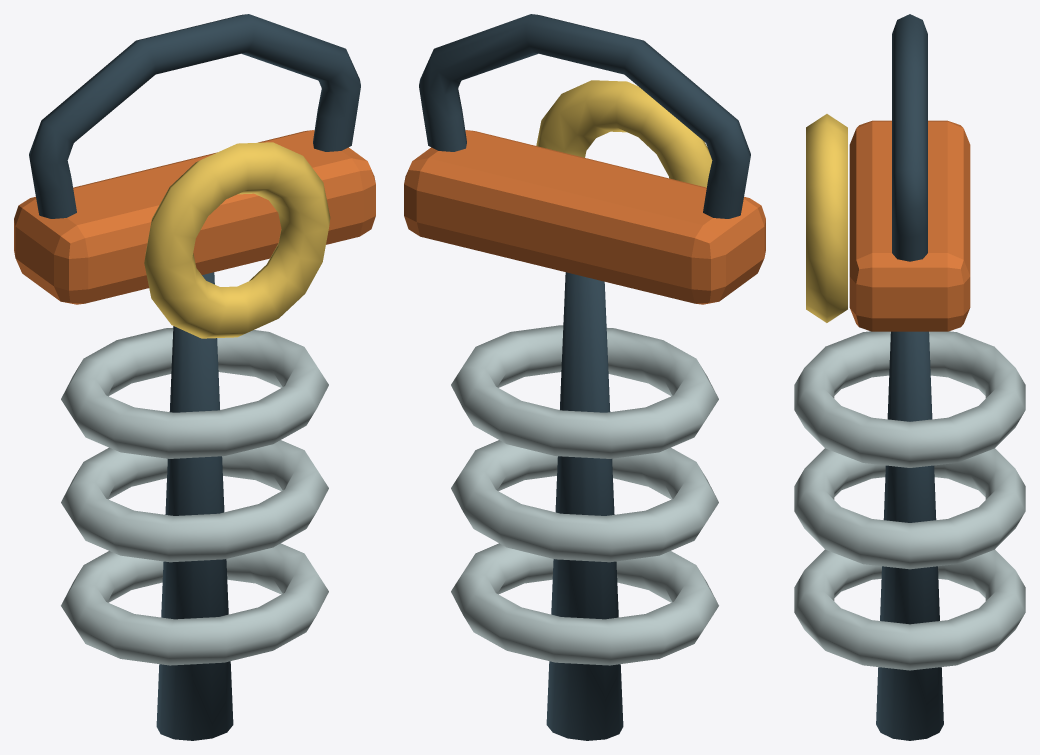
Rendered from anchor.glb.
3 renders of one model, left to right at view 1: azimuth 30°, elevation 25°; view 2: azimuth 150°, elevation 25°; view 3: azimuth 270°, elevation 25°, orthographic. The views are drawn at different scales.
Parts seen in each view (by area): view 1: tyaga-anchor-surface; view 2: tyaga-anchor-surface; view 3: tyaga-anchor-surface.
Part boxes in pixels (x1,y1,x2,y2): tyaga-anchor-surface: (14,14,375,740); tyaga-anchor-surface: (404,14,765,740); tyaga-anchor-surface: (794,14,1025,740).
Bounding box in the file's own units: 0.42 × 0.85 × 0.26.
